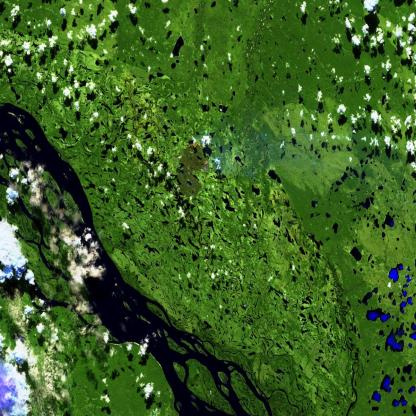fire: (182, 134, 213, 178)
